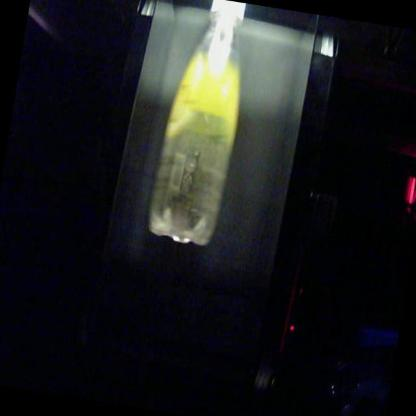Plastic Bottle: (150, 0, 246, 246)
